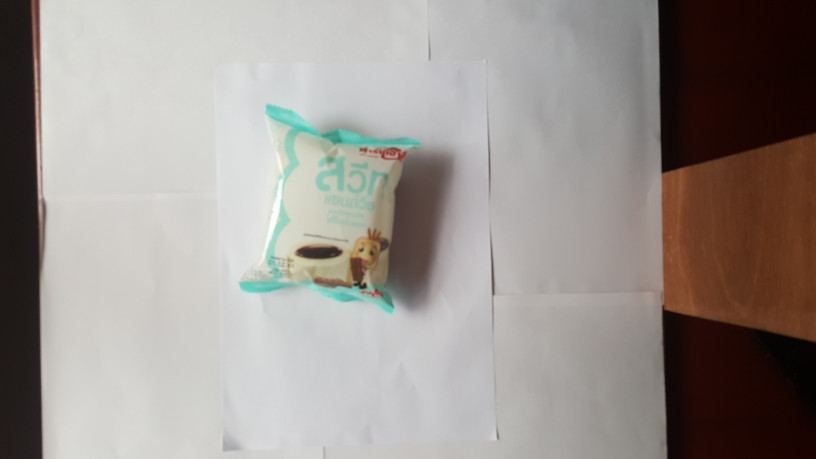farmhouse-sweetsandwich-chocolate: (237, 101, 423, 317)
